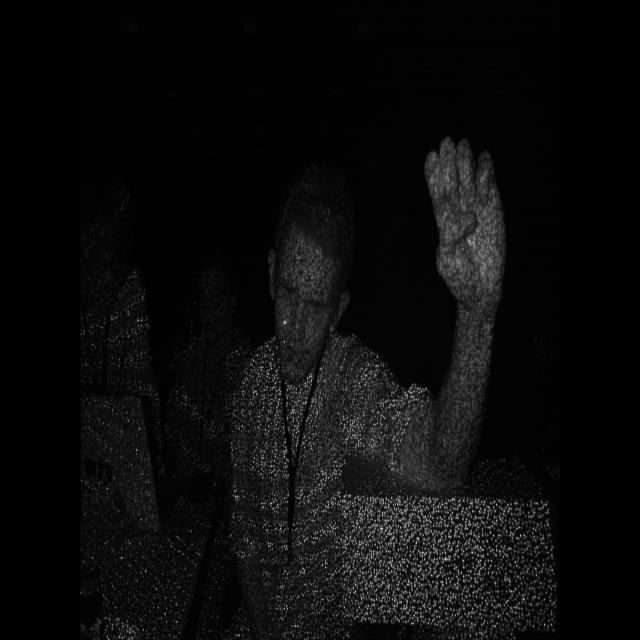E: (412, 110, 523, 338)
